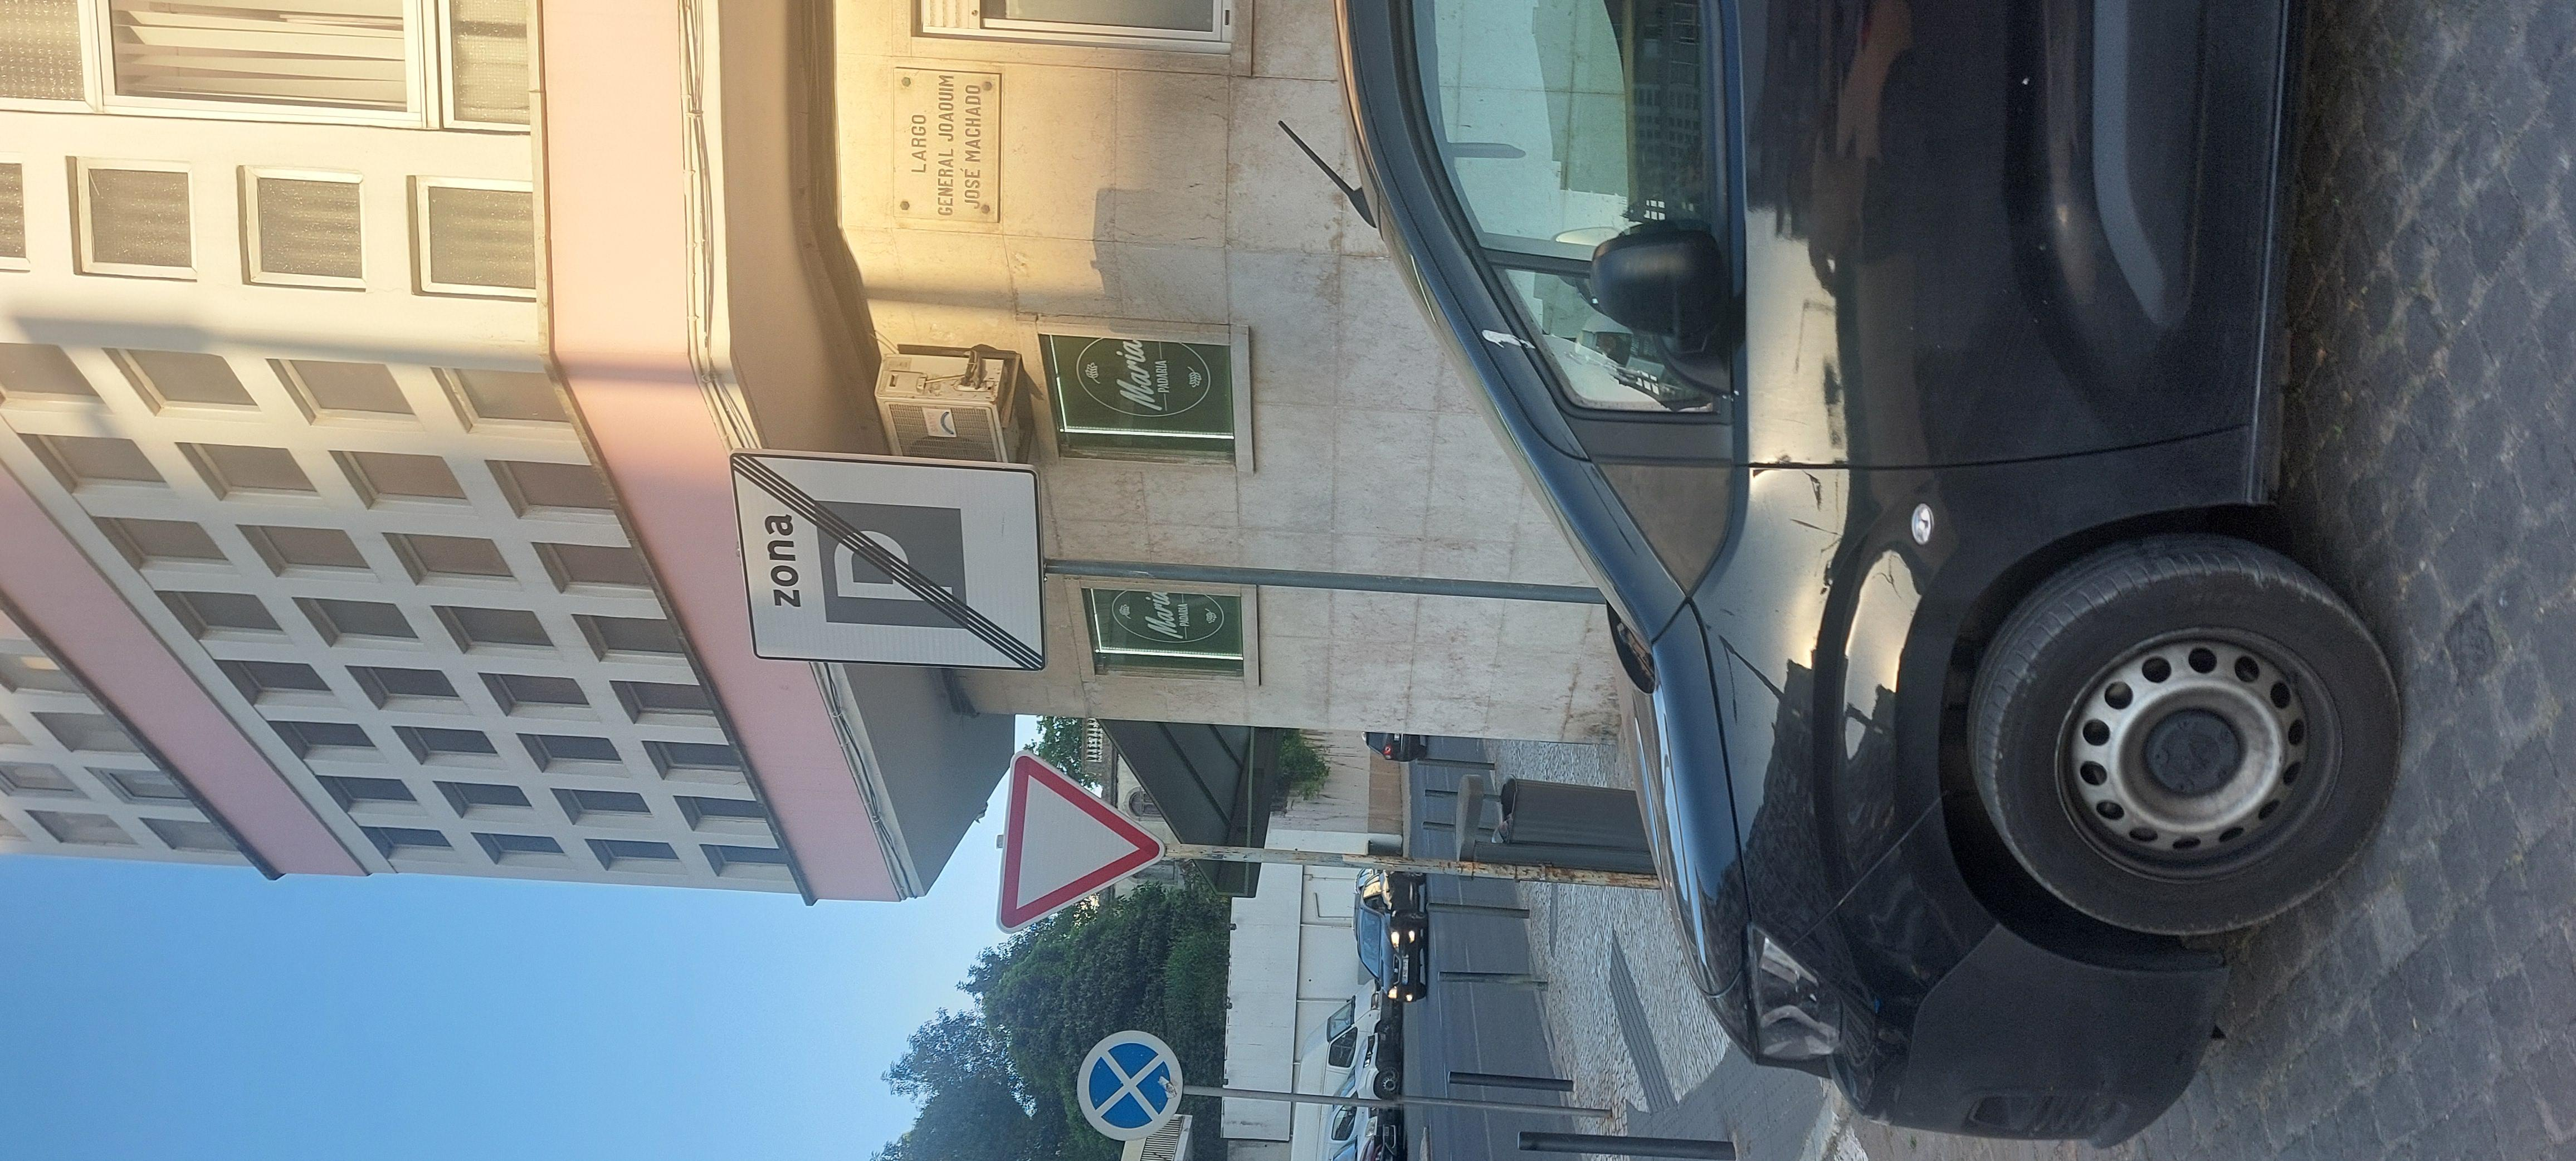cedencia de passagem: (493, 414, 1043, 532)
fim de estacionamento autorizado: (1096, 324, 1577, 473)
